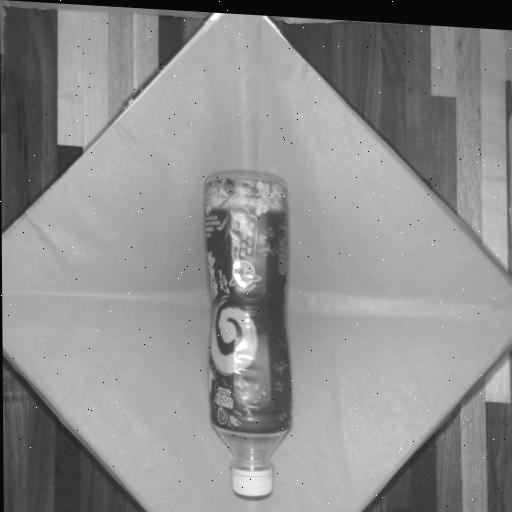bottle: (207, 170, 295, 502)
